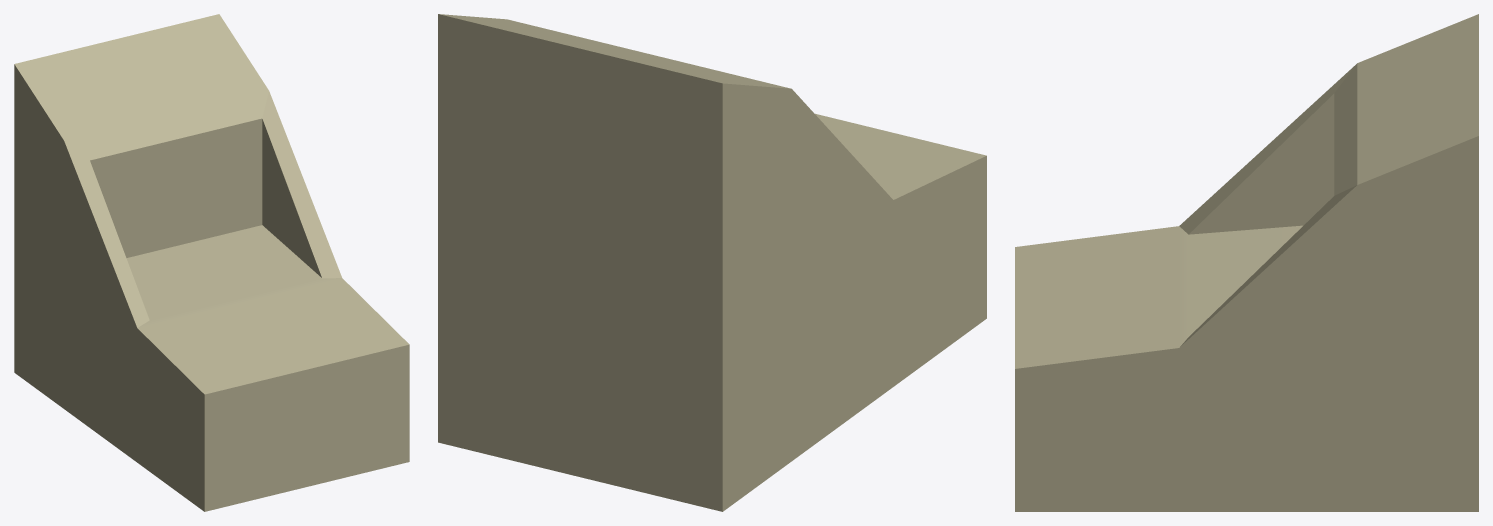
Rendered from building_4.fbx.
The picture shows the model from 3 angles, left to right: view 1: azimuth 30°, elevation 25°; view 2: azimuth 150°, elevation 25°; view 3: azimuth 270°, elevation 25°; orthographic projection. The views are drawn at different scales.
Parts seen in each view (by area): view 1: building_4; view 2: building_4; view 3: building_4.
Boxes of the visible parts, bbox=[...] form: building_4: bbox=[14, 14, 409, 511]; building_4: bbox=[438, 14, 986, 511]; building_4: bbox=[1015, 14, 1478, 511].
Size of the model in its own units: 1231 by 1771 by 1979.
